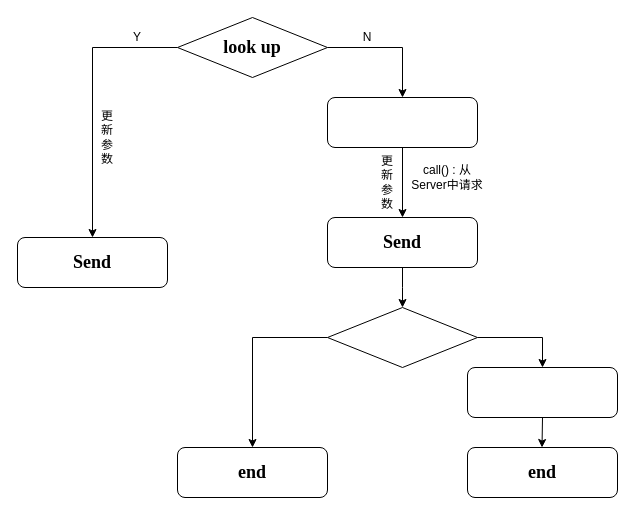
Image size: 635x515. Some labels were removed from this diagram. The box of each missing label's shape, as (x1, y1, x2, y2) in pixels:
Add_from_server: (326, 96, 478, 148)
Admit: (326, 306, 478, 368)
evict: (466, 366, 618, 418)
